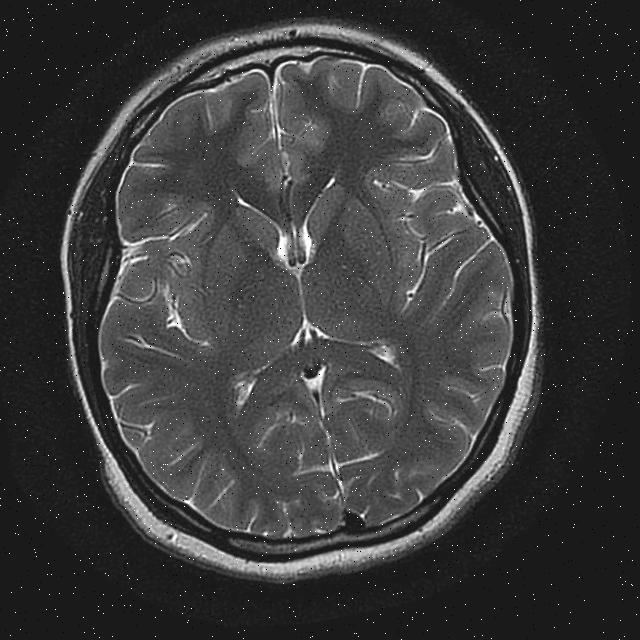NoTumor: (22, 0, 590, 627)
